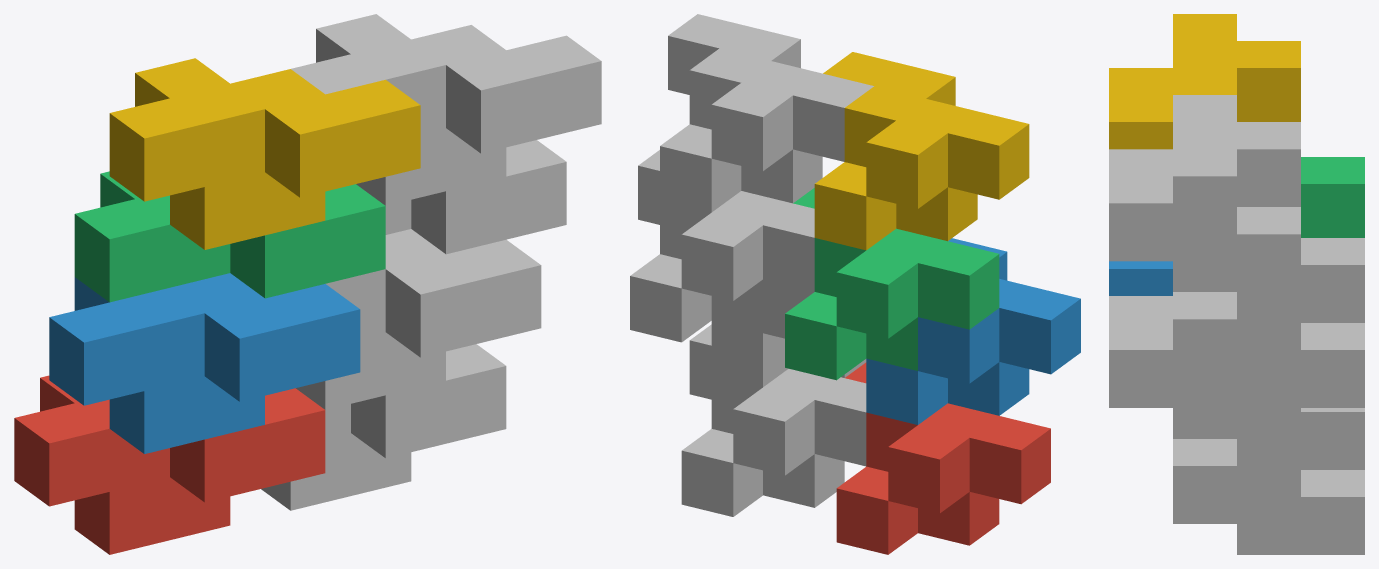
The model's file is tiling.obj.
3 renders of one model, left to right at view 1: azimuth 30°, elevation 25°; view 2: azimuth 150°, elevation 25°; view 3: azimuth 270°, elevation 25°, orthographic. The views are drawn at different scales.
Visible parts, largest first — view 1: copy_1_domain_4, copy_1_domain_2, copy_1_domain_8, copy_1_domain_1, copy_1_domain_6, copy_1_domain_3, copy_1_domain_5, copy_1_domain_7; view 2: copy_1_domain_4, copy_1_domain_8, copy_1_domain_1, copy_1_domain_5, copy_1_domain_3, copy_1_domain_7, copy_1_domain_2, copy_1_domain_6; view 3: copy_1_domain_8, copy_1_domain_7, copy_1_domain_5, copy_1_domain_4, copy_1_domain_6, copy_1_domain_3, copy_1_domain_2.
Boxes of the visible parts, <box> form: copy_1_domain_4: <box>109,58,420,249</box>; copy_1_domain_2: <box>49,273,360,453</box>; copy_1_domain_8: <box>291,14,601,205</box>; copy_1_domain_1: <box>14,375,325,554</box>; copy_1_domain_6: <box>296,229,541,409</box>; copy_1_domain_3: <box>74,171,385,302</box>; copy_1_domain_5: <box>261,344,506,510</box>; copy_1_domain_7: <box>385,140,566,254</box>; copy_1_domain_4: <box>814,52,1029,250</box>; copy_1_domain_8: <box>660,14,873,212</box>; copy_1_domain_1: <box>836,362,1050,554</box>; copy_1_domain_5: <box>681,324,866,516</box>; copy_1_domain_3: <box>785,188,999,380</box>; copy_1_domain_7: <box>630,150,814,342</box>; copy_1_domain_2: <box>866,238,1080,424</box>; copy_1_domain_6: <box>711,279,866,387</box>; copy_1_domain_8: <box>1109,95,1300,291</box>; copy_1_domain_7: <box>1173,238,1364,407</box>; copy_1_domain_5: <box>1173,408,1364,554</box>; copy_1_domain_4: <box>1109,14,1300,149</box>; copy_1_domain_6: <box>1109,296,1300,438</box>; copy_1_domain_3: <box>1301,157,1364,237</box>; copy_1_domain_2: <box>1109,261,1172,295</box>.
Bounding box in the file's own units: 8 × 7 × 4.
